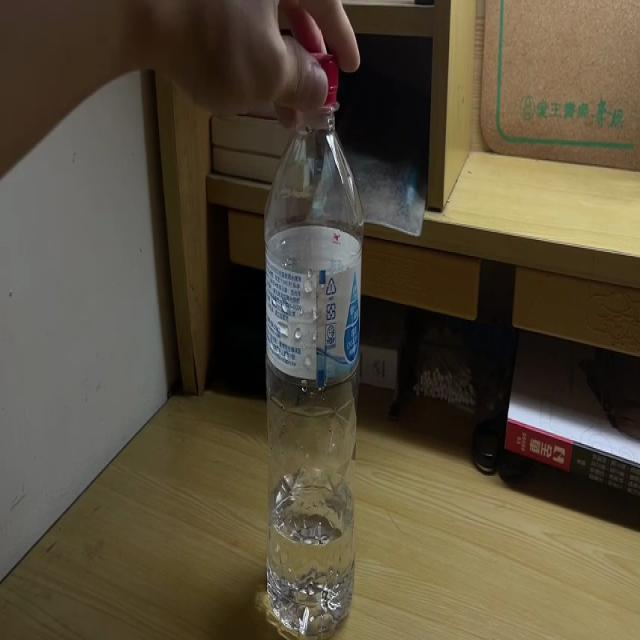Water: (266, 49, 362, 640)
